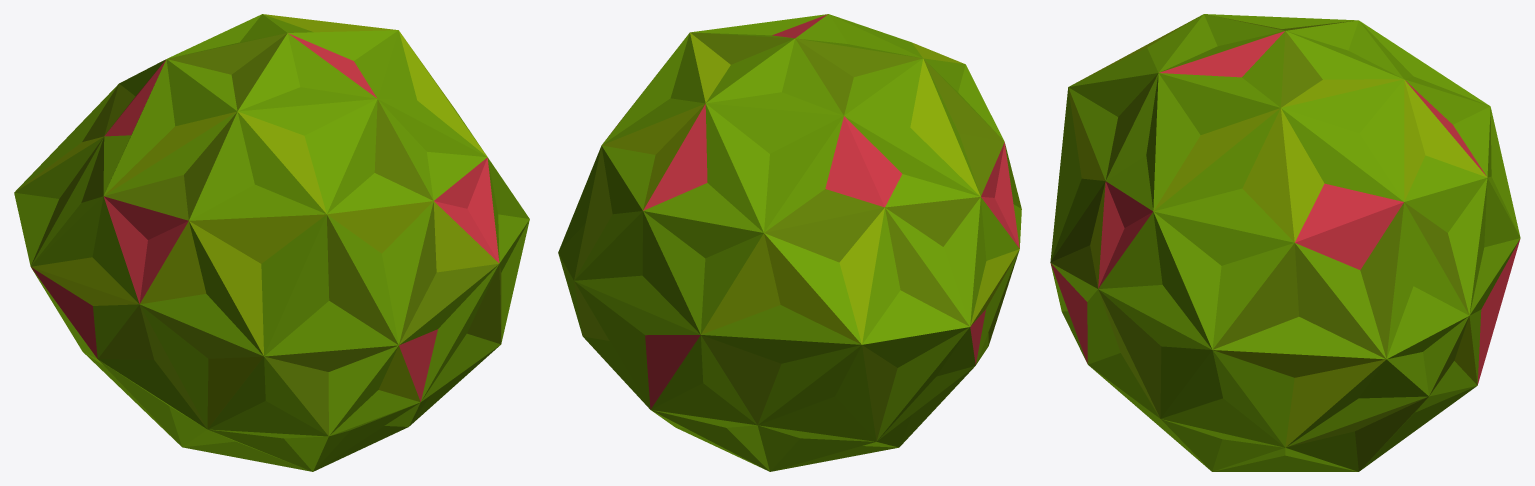
Rendered from bush.fbx.
3 renders of one model, left to right at view 1: azimuth 30°, elevation 25°; view 2: azimuth 150°, elevation 25°; view 3: azimuth 270°, elevation 25°, orthographic. The views are drawn at different scales.
Parts seen in each view (by area): view 1: Icosphere; view 2: Icosphere; view 3: Icosphere.
Boxes of the visible parts, x1,y1,x2,y2 form: Icosphere: (14, 14, 529, 471); Icosphere: (558, 14, 1021, 471); Icosphere: (1050, 14, 1520, 471).
Size of the model in its own units: 2.11 by 1.85 by 1.98.
